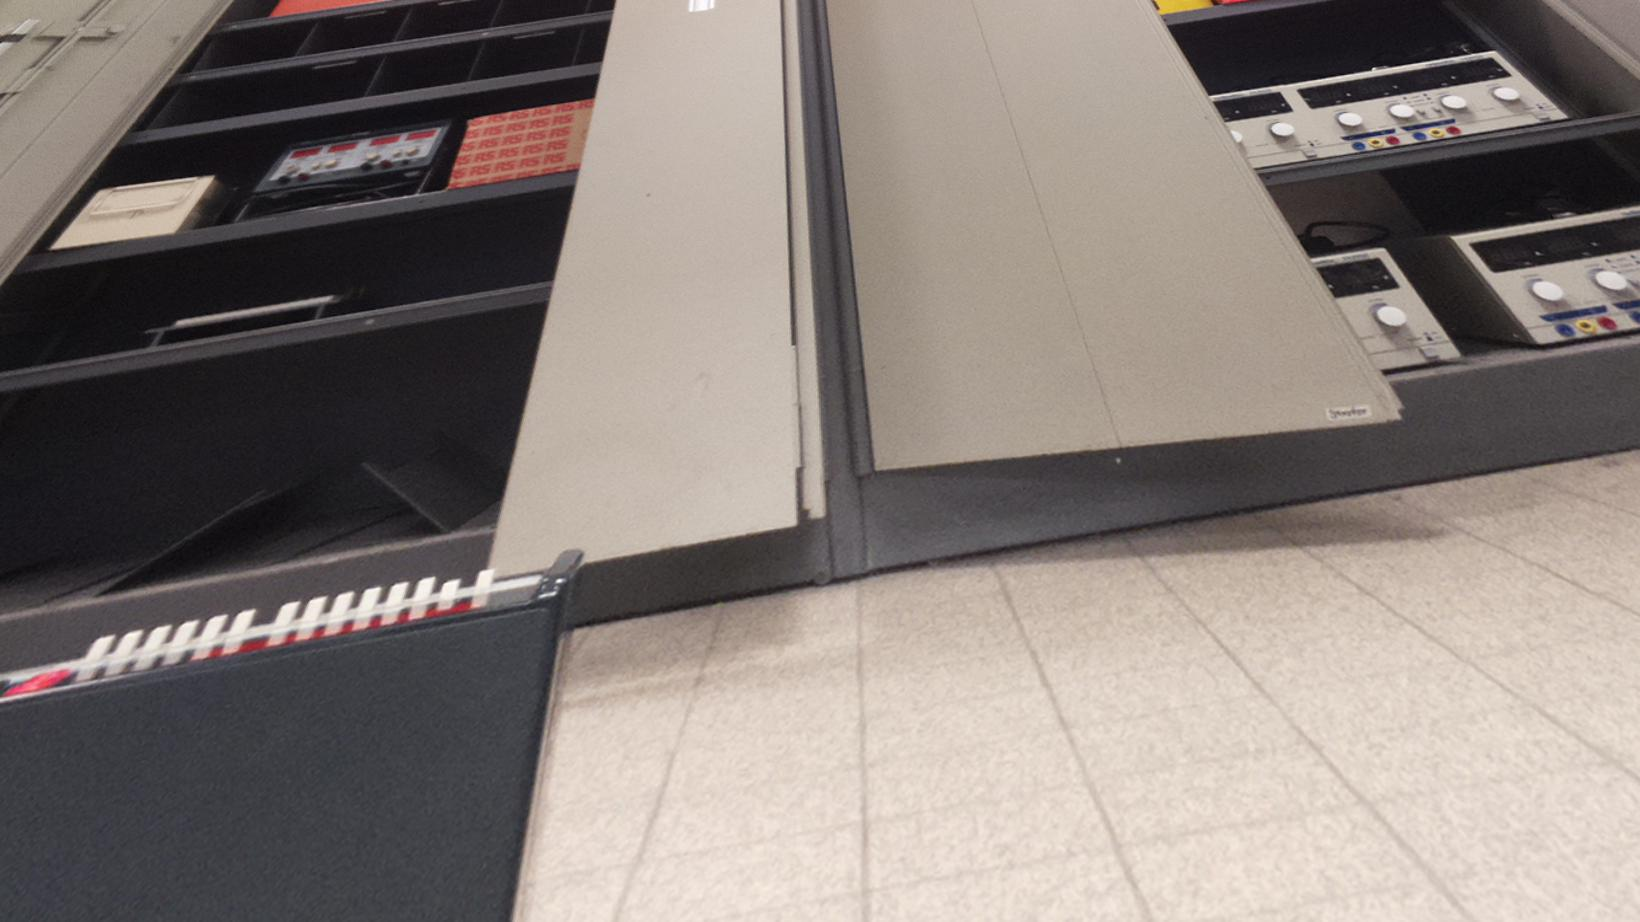medium: (1, 543, 598, 922)
